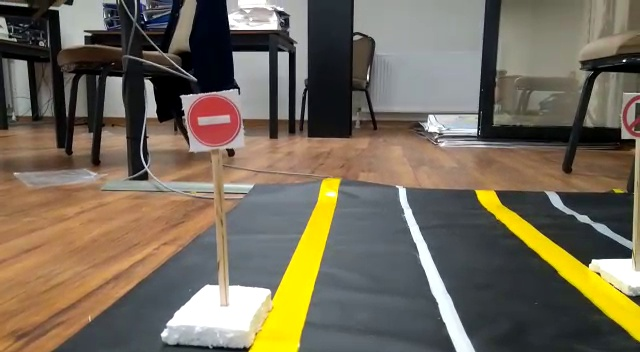girisi_olmayan_yol: (184, 94, 244, 149)
